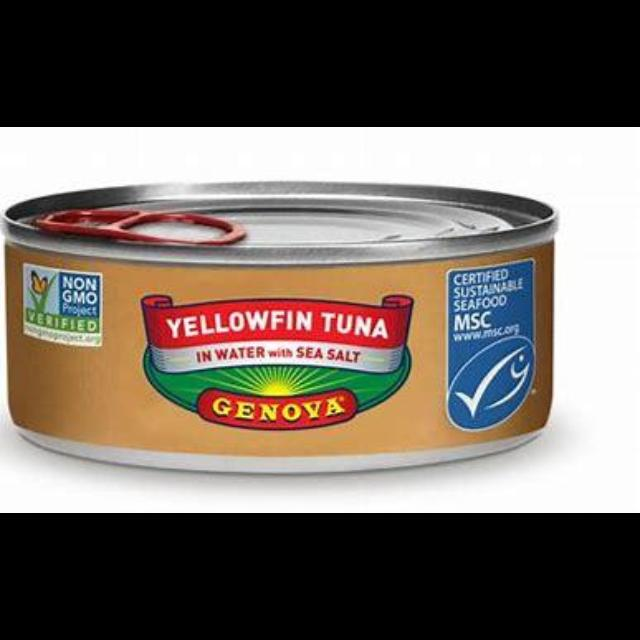aba de lata: (30, 208, 252, 246)
lata: (4, 180, 560, 478)
